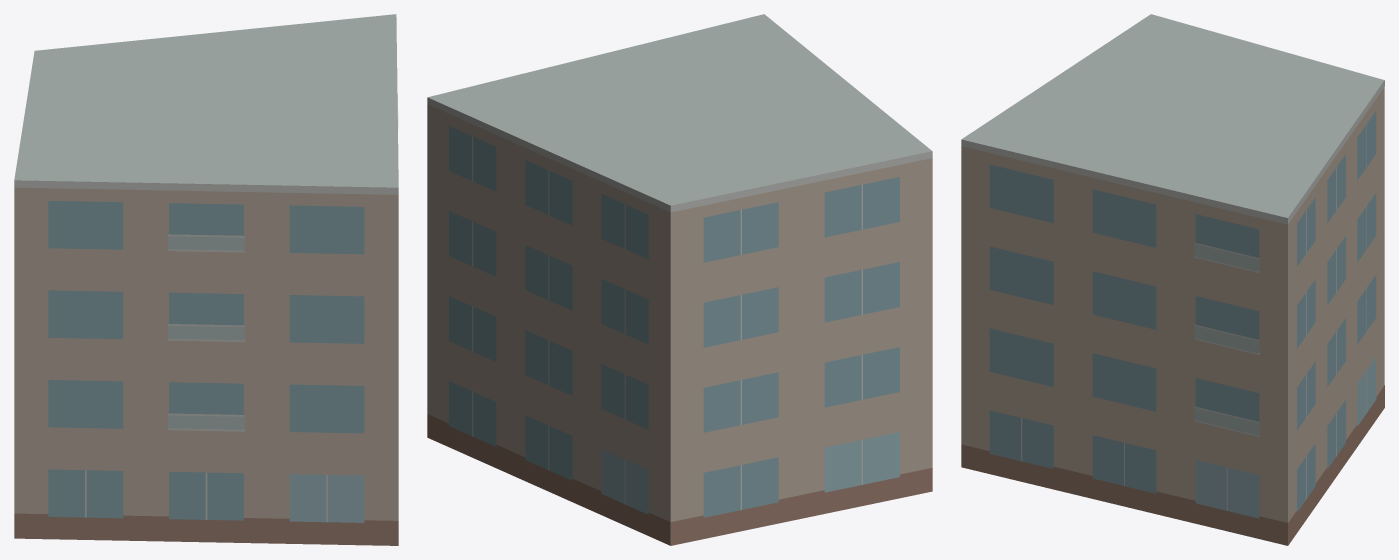
The model's file is residential-5833d437-185d-40f2-a17e-4b47f8497070.glb.
3 views of the same model, side by side, from view 1: azimuth 30°, elevation 25°; view 2: azimuth 150°, elevation 25°; view 3: azimuth 270°, elevation 25° (orthographic). The views are drawn at different scales.
Parts seen in each view (by area): view 1: residential-5833d437-185d-40f2-a17e-4b47f8497070.tmp; view 2: residential-5833d437-185d-40f2-a17e-4b47f8497070.tmp; view 3: residential-5833d437-185d-40f2-a17e-4b47f8497070.tmp.
Boxes of the visible parts, x1,y1,x2,y2 form: residential-5833d437-185d-40f2-a17e-4b47f8497070.tmp: (14, 14, 398, 545); residential-5833d437-185d-40f2-a17e-4b47f8497070.tmp: (427, 14, 932, 545); residential-5833d437-185d-40f2-a17e-4b47f8497070.tmp: (961, 14, 1384, 545).
Size of the model in its own units: 16.3 by 12.2 by 14.29.
